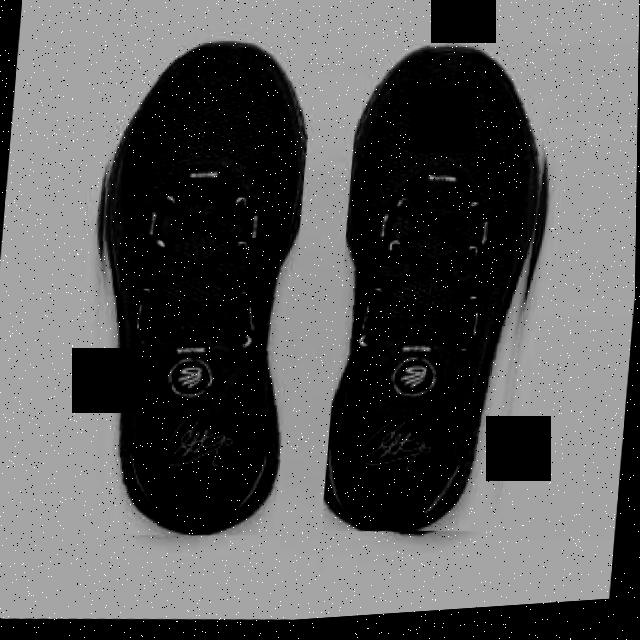shoe: (72, 28, 315, 550), (322, 36, 562, 549)
